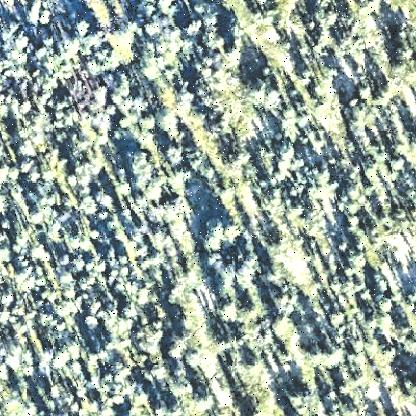tree-top: (5, 341, 43, 380), (286, 385, 322, 416), (200, 218, 230, 254), (164, 326, 194, 362), (245, 71, 276, 105), (136, 321, 166, 355), (211, 219, 247, 247), (314, 343, 348, 371), (153, 106, 183, 135), (272, 313, 300, 341), (166, 169, 194, 197), (216, 299, 246, 324), (127, 148, 153, 176), (347, 101, 373, 129), (392, 37, 416, 67), (191, 388, 217, 415), (149, 225, 175, 251), (7, 21, 31, 49), (242, 352, 268, 376), (220, 42, 246, 66), (215, 268, 239, 294), (18, 139, 41, 165), (256, 141, 278, 168), (59, 35, 80, 63), (164, 144, 188, 167), (274, 141, 296, 166), (51, 348, 73, 372), (95, 188, 117, 210), (142, 17, 164, 39), (73, 18, 95, 38), (139, 112, 161, 132), (13, 30, 33, 52), (29, 242, 51, 262), (328, 308, 350, 328), (92, 84, 112, 105), (185, 17, 205, 37), (378, 295, 398, 315), (287, 197, 307, 217), (278, 349, 300, 367), (387, 156, 407, 174), (71, 256, 90, 274), (19, 95, 36, 115), (85, 314, 99, 336), (19, 161, 37, 177), (1, 286, 15, 306), (1, 243, 15, 261), (2, 220, 15, 238)
